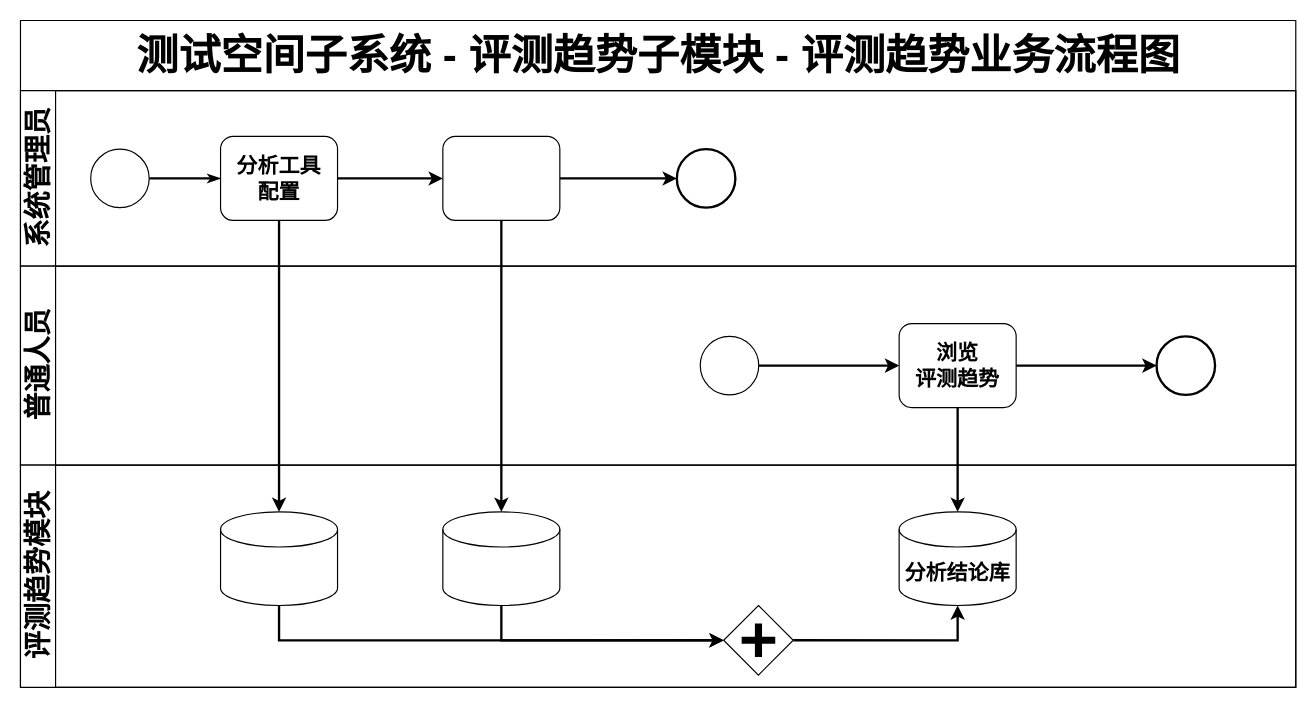
Image size: 1316x708. Some labels were removed from this diagram. Here are the shapes that lost their labels. From the top down, the centre of each, then its label:
point 501,177: 分析模式工具配置
point 278,558: 分析工具库
point 501,558: 分析指标库
